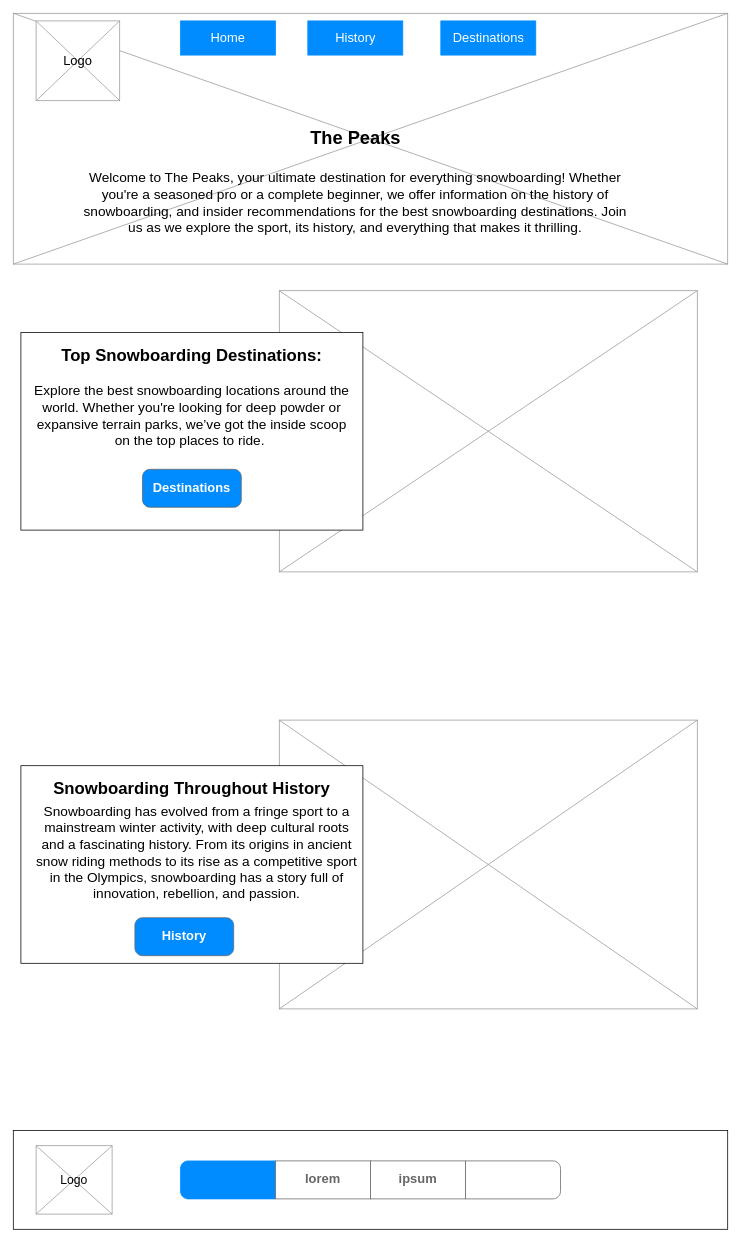
Some shapes in this 741 by 1243 pixel diagram are drawn without their labels. Each missing label, with the box of its shape:
Contact Us: (180, 1160, 276, 1199)
dolor: (465, 1160, 560, 1199)
